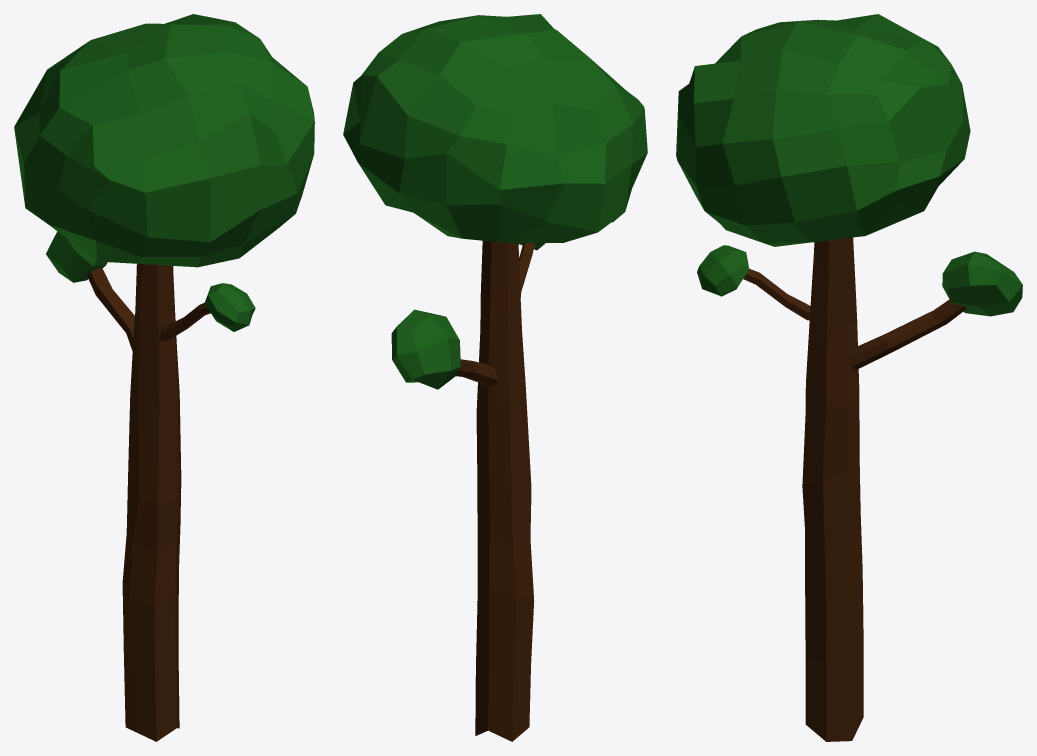
File: tree1.fbx
The picture shows the model from 3 angles, left to right: view 1: azimuth 30°, elevation 25°; view 2: azimuth 150°, elevation 25°; view 3: azimuth 270°, elevation 25°; orthographic projection. The views are drawn at different scales.
Parts seen in each view (by area): view 1: Cube; view 2: Cube; view 3: Cube.
Boxes of the visible parts, x1,y1,x2,y2 form: Cube: [14, 14, 314, 741]; Cube: [343, 14, 647, 741]; Cube: [676, 14, 1022, 741].
Bounding box in the file's own units: 409 × 1048 × 463.
